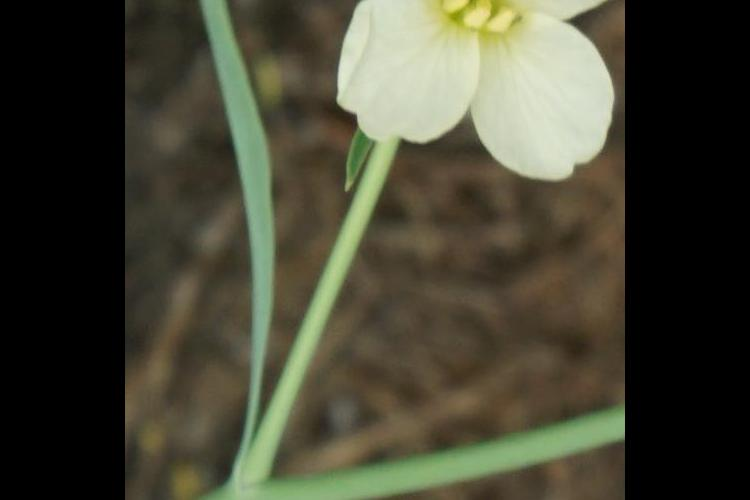white: (358, 1, 615, 199)
